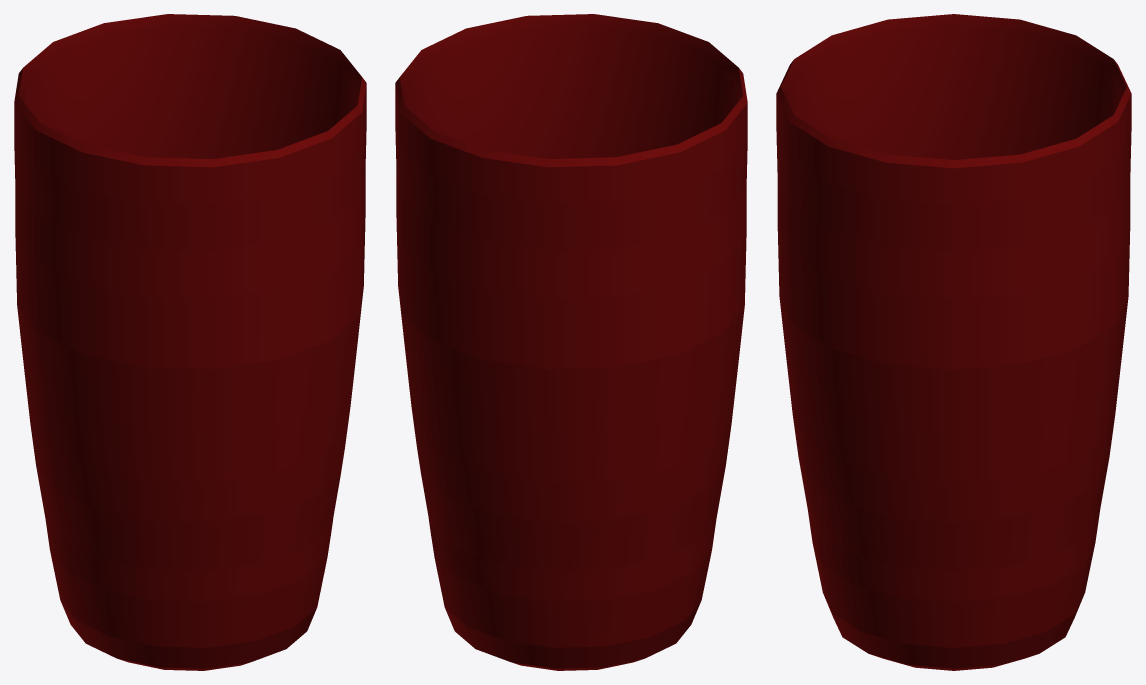
The model's file is redcup.fbx.
The picture shows the model from 3 angles, left to right: view 1: azimuth 30°, elevation 25°; view 2: azimuth 150°, elevation 25°; view 3: azimuth 270°, elevation 25°; orthographic projection.
Parts seen in each view (by area): view 1: Line001; view 2: Line001; view 3: Line001.
Part boxes in pixels (x1=…): Line001: x1=14, y1=14, x2=366, y2=670; Line001: x1=395, y1=14, x2=747, y2=670; Line001: x1=776, y1=14, x2=1131, y2=670.
Size of the model in its own units: 73.1 by 124 by 73.1.
